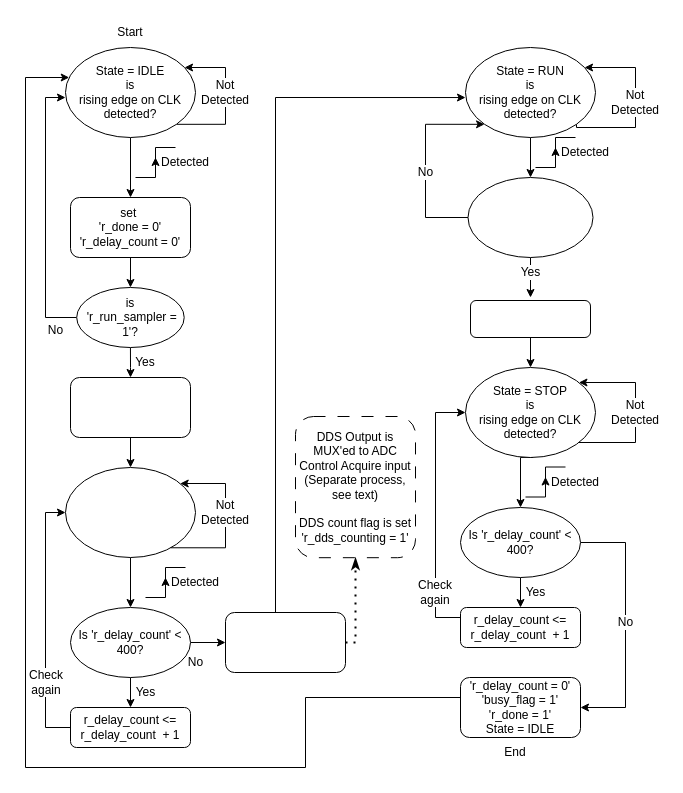
Some shapes in this 683 by 793 pixel diagram are drawn without their labels. The centre of each missing label's shape, as x and y in pixels:
"'r_delay_count = 0' State = RUN" belongs at (285,642).
"Is 'r_dds_counting = 0' ?" belongs at (530,217).
"set 'busy_flag = 0' 'State = ARM'" belongs at (130,407).
"set 'State = STOP'" belongs at (530,319).
"State = ARM is rising edge on CLK detected?" belongs at (130,512).
